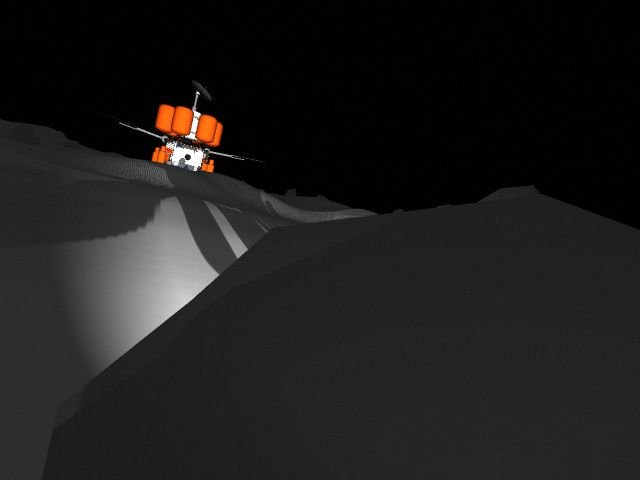homebase: (115, 78, 270, 187)
